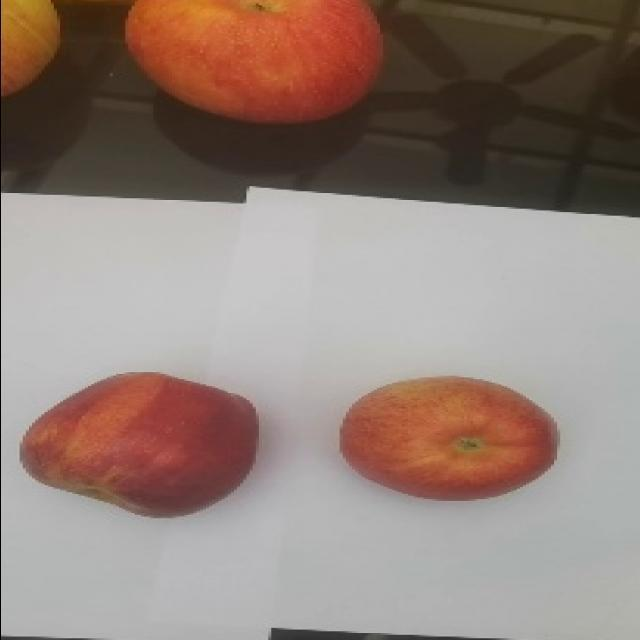Apple: (18, 370, 263, 522), (121, 0, 389, 126), (338, 375, 561, 501), (0, 2, 65, 99)
